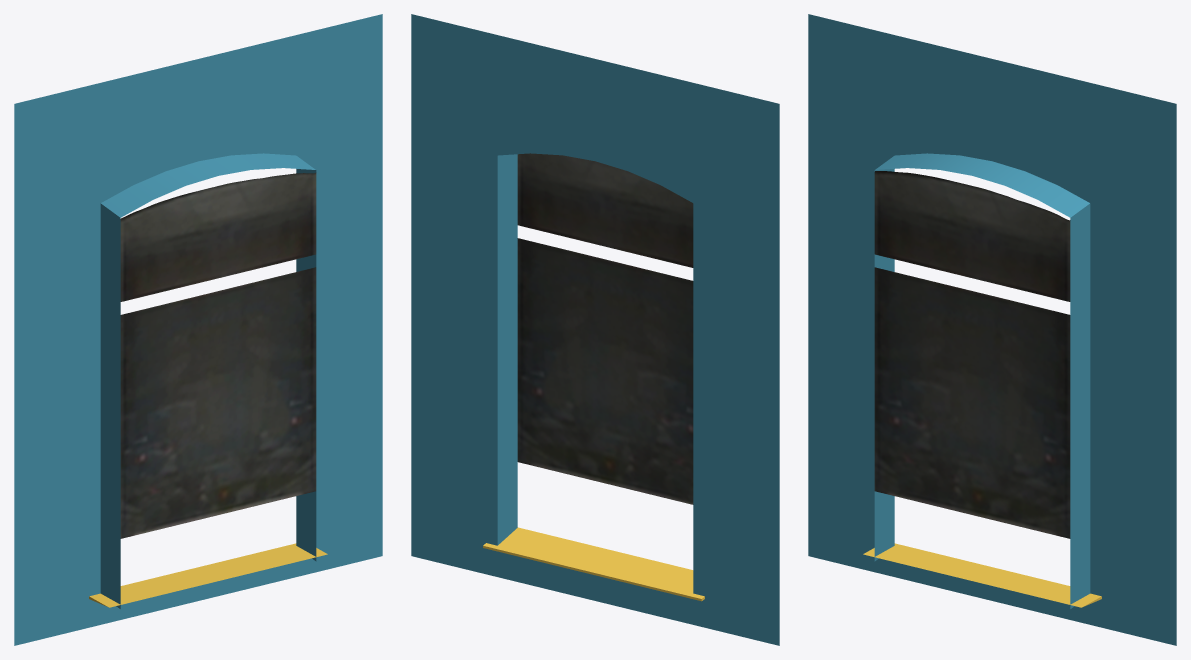
Rendered from FacadeFirstFloorA.FBX.
The picture shows the model from 3 angles, left to right: view 1: azimuth 30°, elevation 25°; view 2: azimuth 150°, elevation 25°; view 3: azimuth 330°, elevation 25°; orthographic projection.
Parts seen in each view (by area): view 1: FacadeFirstFloorA; view 2: FacadeFirstFloorA; view 3: FacadeFirstFloorA.
Boxes of the visible parts, <box> form: FacadeFirstFloorA: <box>14,14,382,645</box>; FacadeFirstFloorA: <box>411,14,779,645</box>; FacadeFirstFloorA: <box>808,14,1176,645</box>.
Size of the model in its own units: 320 by 450 by 35.21.
